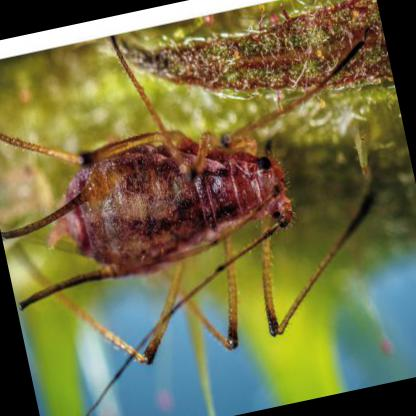uroleucon compositae: (0, 85, 315, 312)
